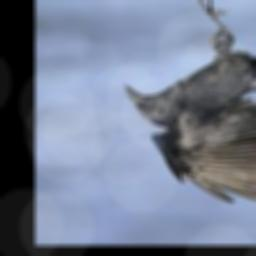Crow: (122, 0, 256, 205)
